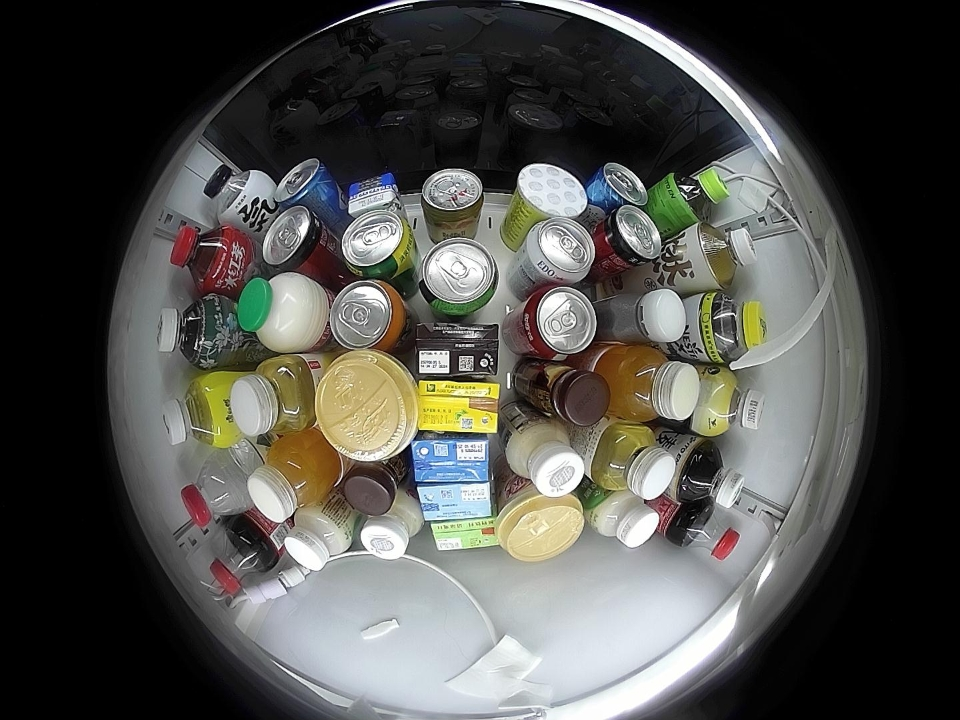anmuxi: (347, 172, 400, 218)
asamu: (696, 367, 765, 435)
binghongcha: (170, 224, 239, 292)
bingtangxueli: (162, 373, 237, 450)
chacui: (697, 292, 766, 365)
chapai2: (229, 355, 318, 437), (590, 421, 677, 499)
damaicha: (677, 438, 744, 509)
fenda: (329, 279, 405, 351)
hongniu2: (421, 168, 485, 231)
kebike: (508, 164, 588, 219)
kele: (523, 284, 598, 361)
kele-b: (209, 529, 268, 598), (676, 505, 741, 561)
lingdukele: (262, 206, 332, 272), (597, 205, 661, 270)
liziyuan: (236, 272, 328, 353)
lujikafei: (532, 362, 610, 427), (343, 456, 403, 515)
moliqingcha: (156, 293, 224, 370)
nongfushanquan: (179, 452, 252, 528)
qingdaowangzi-2: (273, 158, 338, 212), (587, 162, 649, 213)
quchenshixiangcao: (418, 237, 500, 317)
rancha-2: (695, 223, 757, 290)
rusuanjunqishui: (521, 218, 595, 284)
wanglaoji: (430, 517, 500, 552)
weic: (247, 434, 341, 523), (598, 343, 700, 422)
weitanai: (411, 433, 488, 484)
weitanai2: (413, 324, 498, 378)
weitanaiditang: (418, 481, 496, 521)
weitaningmeng: (416, 377, 499, 434)
weiweidounai: (506, 421, 585, 498), (282, 504, 355, 572), (359, 493, 424, 560)
xuebi2: (340, 210, 415, 278)
yitengyuan: (662, 165, 731, 224)
youlemei: (314, 350, 417, 462), (496, 489, 585, 562)
yousuanru: (588, 488, 660, 548)
youyanggudong: (608, 287, 687, 345)
yuanqishui: (201, 164, 271, 227)
